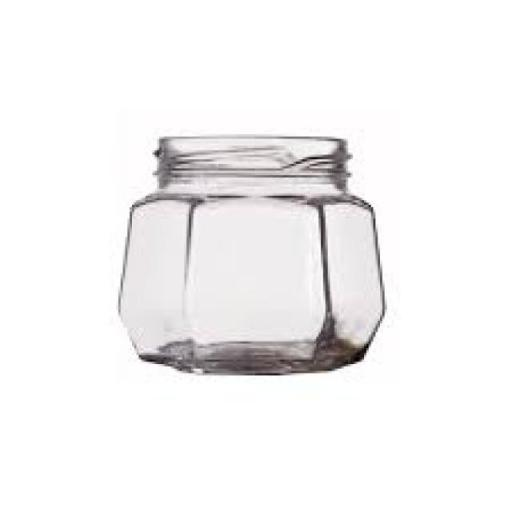glass: (108, 118, 400, 388)
